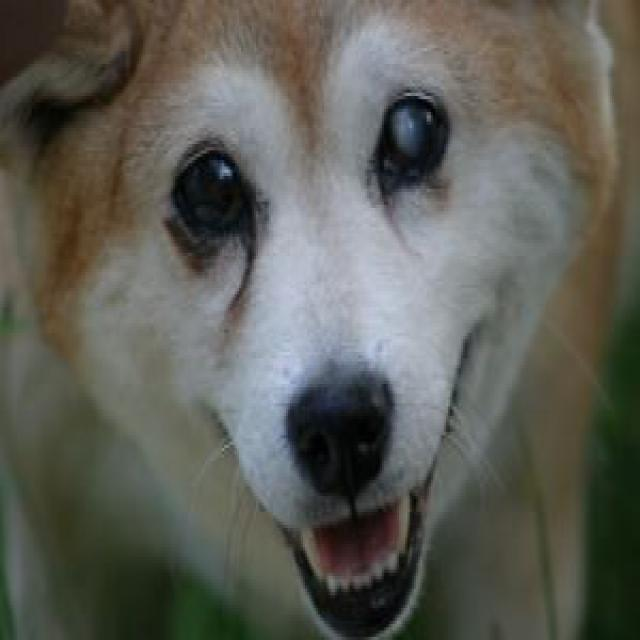eye: (168, 134, 257, 246), (369, 84, 453, 191)
